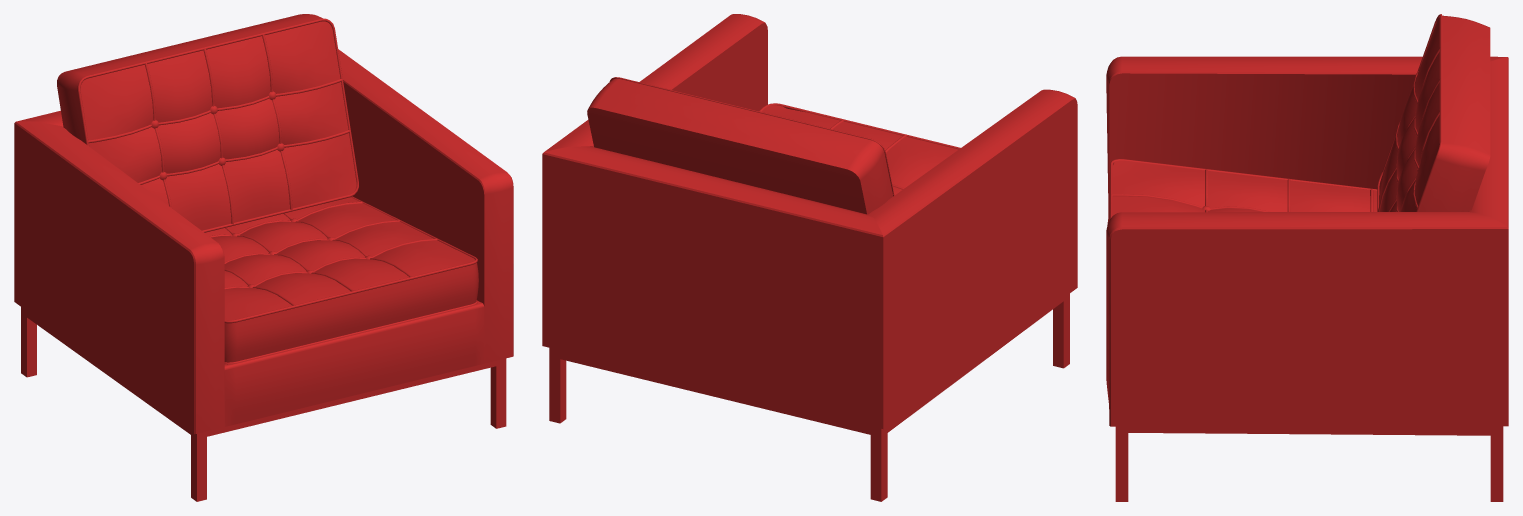
The model's file is knoll_chair_a_01.FBX.
3 renders of one model, left to right at view 1: azimuth 30°, elevation 25°; view 2: azimuth 150°, elevation 25°; view 3: azimuth 270°, elevation 25°, orthographic. The views are drawn at different scales.
Parts seen in each view (by area): view 1: knoll_chair_a_01; view 2: knoll_chair_a_01; view 3: knoll_chair_a_01.
Part boxes in pixels (<box>): knoll_chair_a_01: <box>14,14,513,501</box>; knoll_chair_a_01: <box>542,14,1077,501</box>; knoll_chair_a_01: <box>1106,14,1508,501</box>.
Size of the model in its own units: 81.28 by 75.06 by 80.46.
